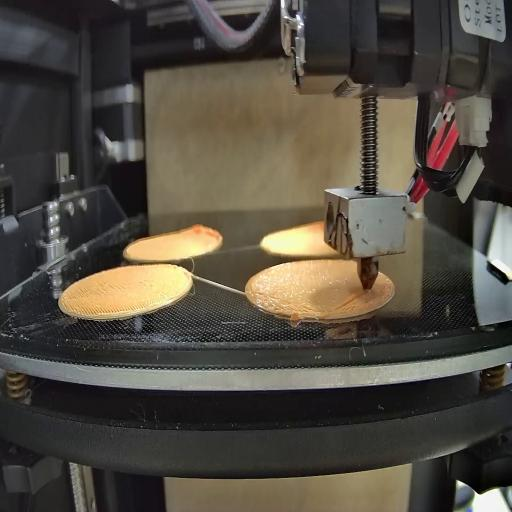over_extrusion: (334, 290, 371, 312), (188, 219, 220, 241)
